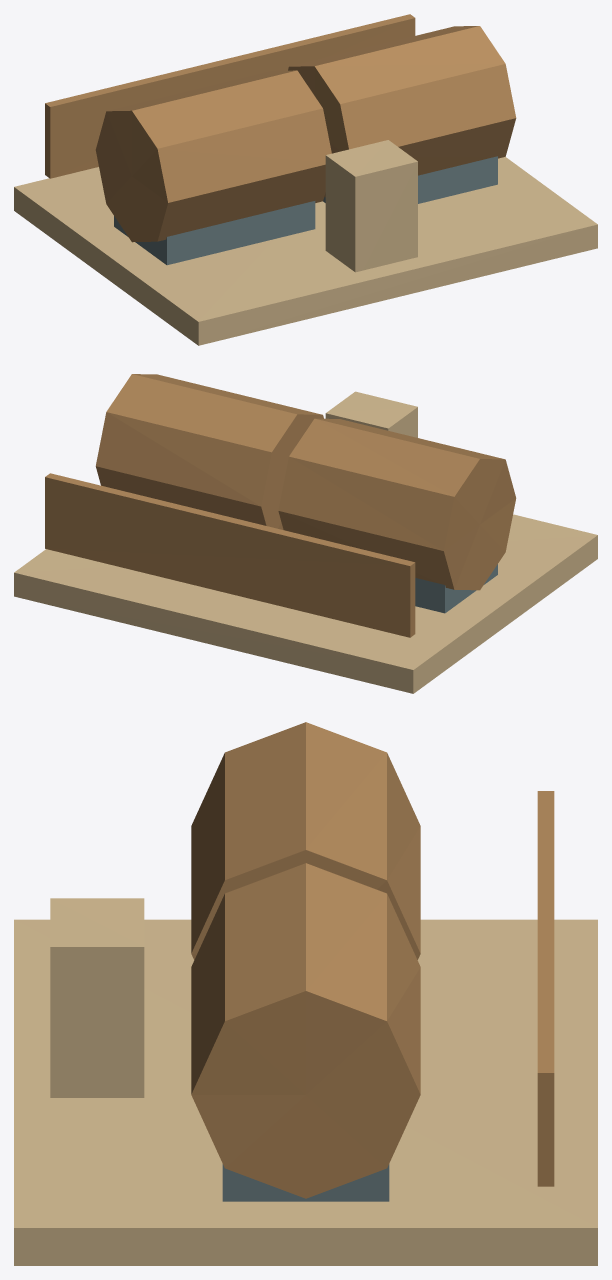
File: Fuel-Storage.glb
3 renders of one model, top to bottom at view 1: azimuth 30°, elevation 25°; view 2: azimuth 150°, elevation 25°; view 3: azimuth 270°, elevation 25°, orthographic. The views are drawn at different scales.
Parts seen in each view (by area): view 1: fuel-storage-static-fuel-teal, fuel-storage-static-fuel-concrete, fuel-storage-static-fuel-galv, fuel-storage-static-fuel-cream, fuel-storage-static-fuel-iron; view 2: fuel-storage-static-fuel-teal, fuel-storage-static-fuel-concrete, fuel-storage-static-fuel-galv, fuel-storage-static-fuel-cream, fuel-storage-static-fuel-iron; view 3: fuel-storage-static-fuel-concrete, fuel-storage-static-fuel-teal, fuel-storage-static-fuel-cream, fuel-storage-static-fuel-galv, fuel-storage-static-fuel-iron.
Boxes of the visible parts, <box> form: fuel-storage-static-fuel-teal: <box>95,26,516,242</box>; fuel-storage-static-fuel-concrete: <box>14,157,597,345</box>; fuel-storage-static-fuel-galv: <box>45,14,415,178</box>; fuel-storage-static-fuel-cream: <box>325,140,417,272</box>; fuel-storage-static-fuel-iron: <box>114,156,497,265</box>; fuel-storage-static-fuel-teal: <box>95,374,516,590</box>; fuel-storage-static-fuel-concrete: <box>14,514,597,693</box>; fuel-storage-static-fuel-galv: <box>45,473,415,637</box>; fuel-storage-static-fuel-cream: <box>325,391,417,437</box>; fuel-storage-static-fuel-iron: <box>415,564,497,613</box>; fuel-storage-static-fuel-concrete: <box>14,919,597,1265</box>; fuel-storage-static-fuel-teal: <box>191,722,420,1198</box>; fuel-storage-static-fuel-cream: <box>50,898,144,1097</box>; fuel-storage-static-fuel-galv: <box>537,791,554,1186</box>; fuel-storage-static-fuel-iron: <box>222,1164,389,1201</box>.
Bounding box in the file's own units: 3.5 × 1.35 × 2.8.
